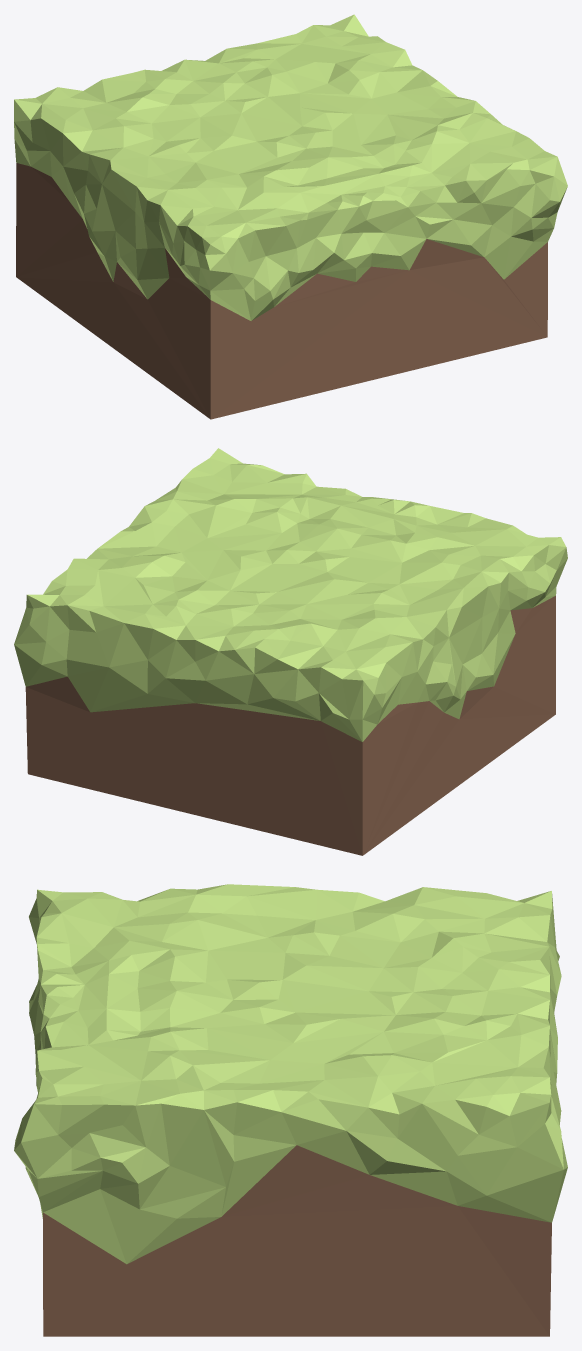
Rendered from lowPolyTiles_grassland01.fbx.
3 views of the same model, one above another, from view 1: azimuth 30°, elevation 25°; view 2: azimuth 150°, elevation 25°; view 3: azimuth 270°, elevation 25° (orthographic). The views are drawn at different scales.
Visible parts, largest first — view 1: Grassland01; view 2: Grassland01; view 3: Grassland01.
Boxes of the visible parts, bbox=[...] form: Grassland01: bbox=[14, 14, 567, 419]; Grassland01: bbox=[14, 448, 567, 855]; Grassland01: bbox=[14, 884, 567, 1336].
Bounding box in the file's own units: 213 × 105 × 219.
